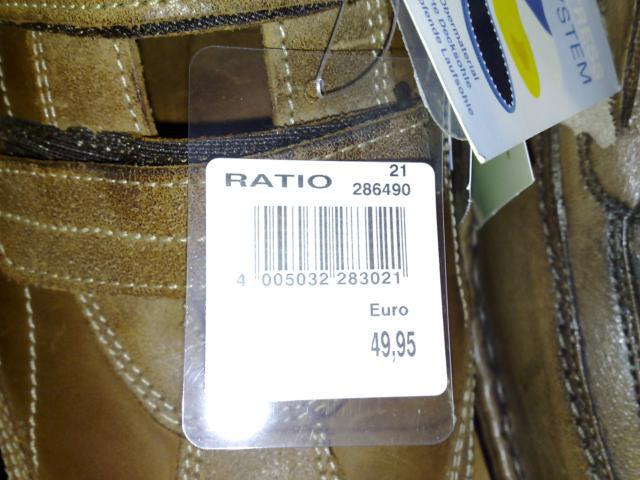Barkod: (248, 204, 406, 266)
